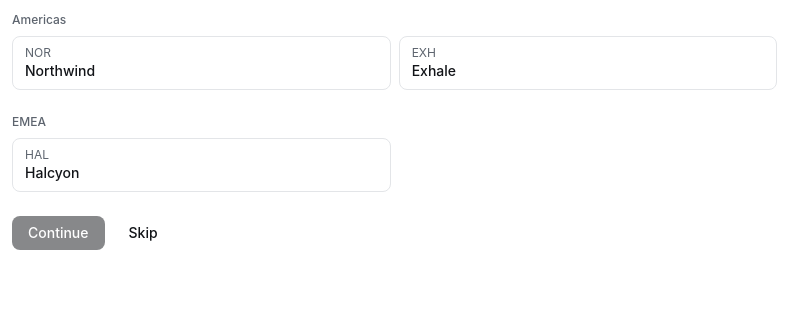
Test case: TeamPicker › shows an error and stays when saving fails
Click the button "Skip" at (143, 233), box [112,216,174,250]
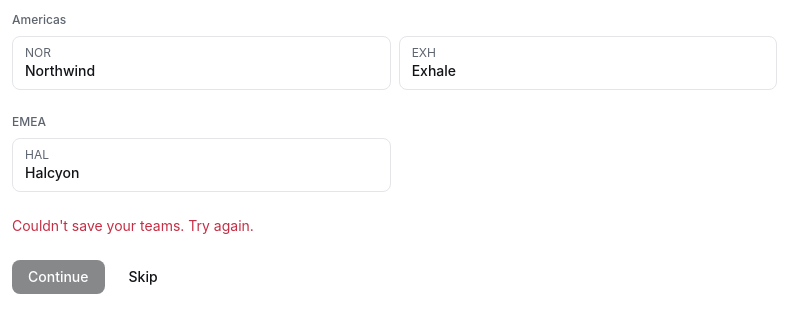
Expected: the message "Couldn't save your teams. Try again." is shown, [12,217,254,234]
